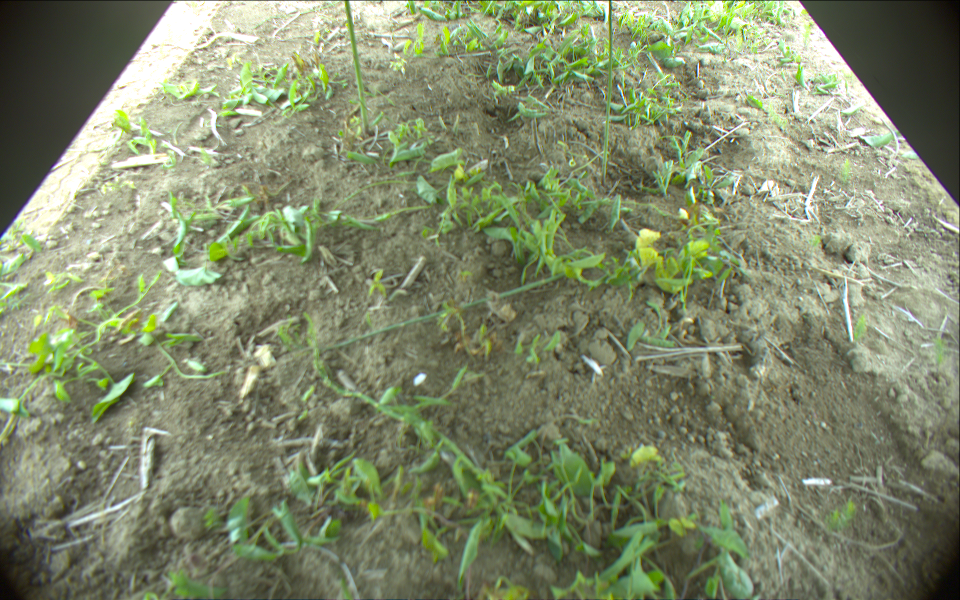aspa: (319, 272, 570, 356), (342, 1, 370, 136), (600, 1, 614, 180)
